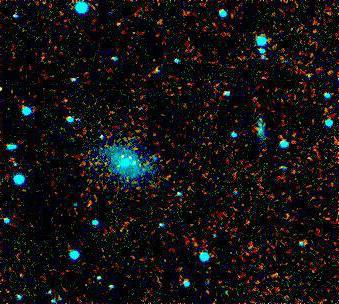star: (102, 6, 132, 36)
